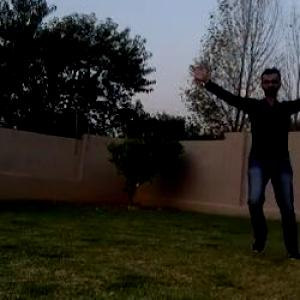takeoff: (181, 69, 299, 250)
